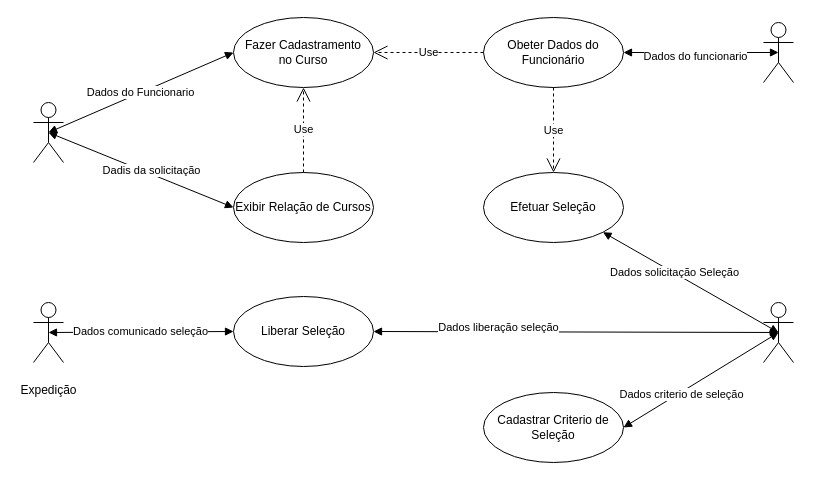
Some shapes in this 836 by 480 pixel diagram are drawn without their labels. Each missing label, with the centre of its shape:
"Funcionario" belongs at pixel 48 132.
"Gerente de RH" belongs at pixel 778 332.
"Sistema de RH" belongs at pixel 778 52.
